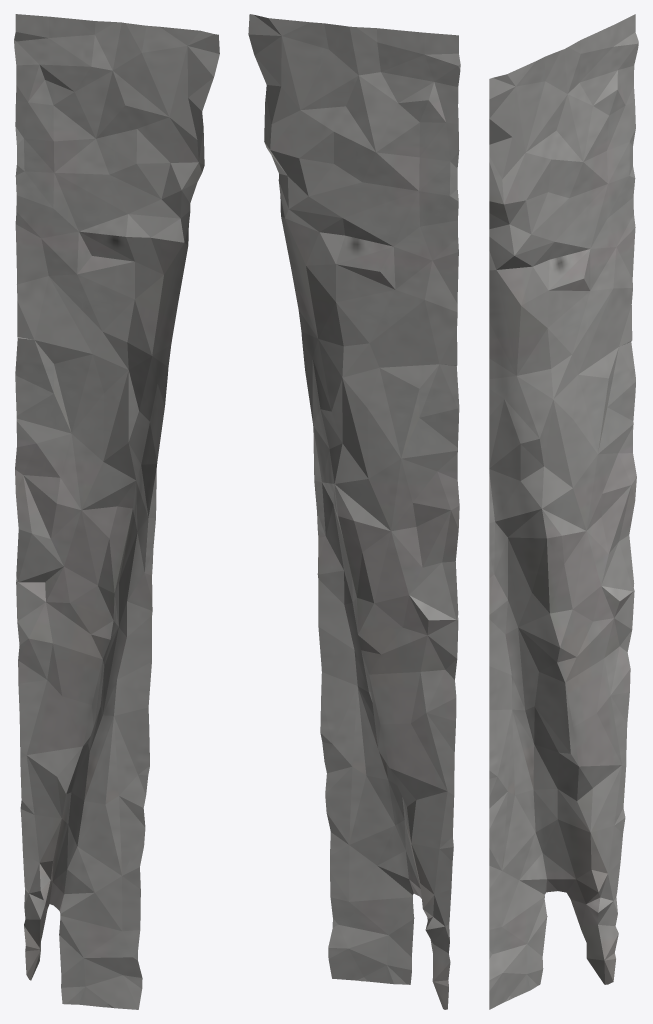
3 views of the same model, side by side, from view 1: azimuth 30°, elevation 25°; view 2: azimuth 210°, elevation 25°; view 3: azimuth 270°, elevation 25° (orthographic). The views are drawn at different scales.
Bounding box in the file's own units: 0.1213 × 0.8374 × 0.1168.
Materials: 1 (1 with a texture image).
